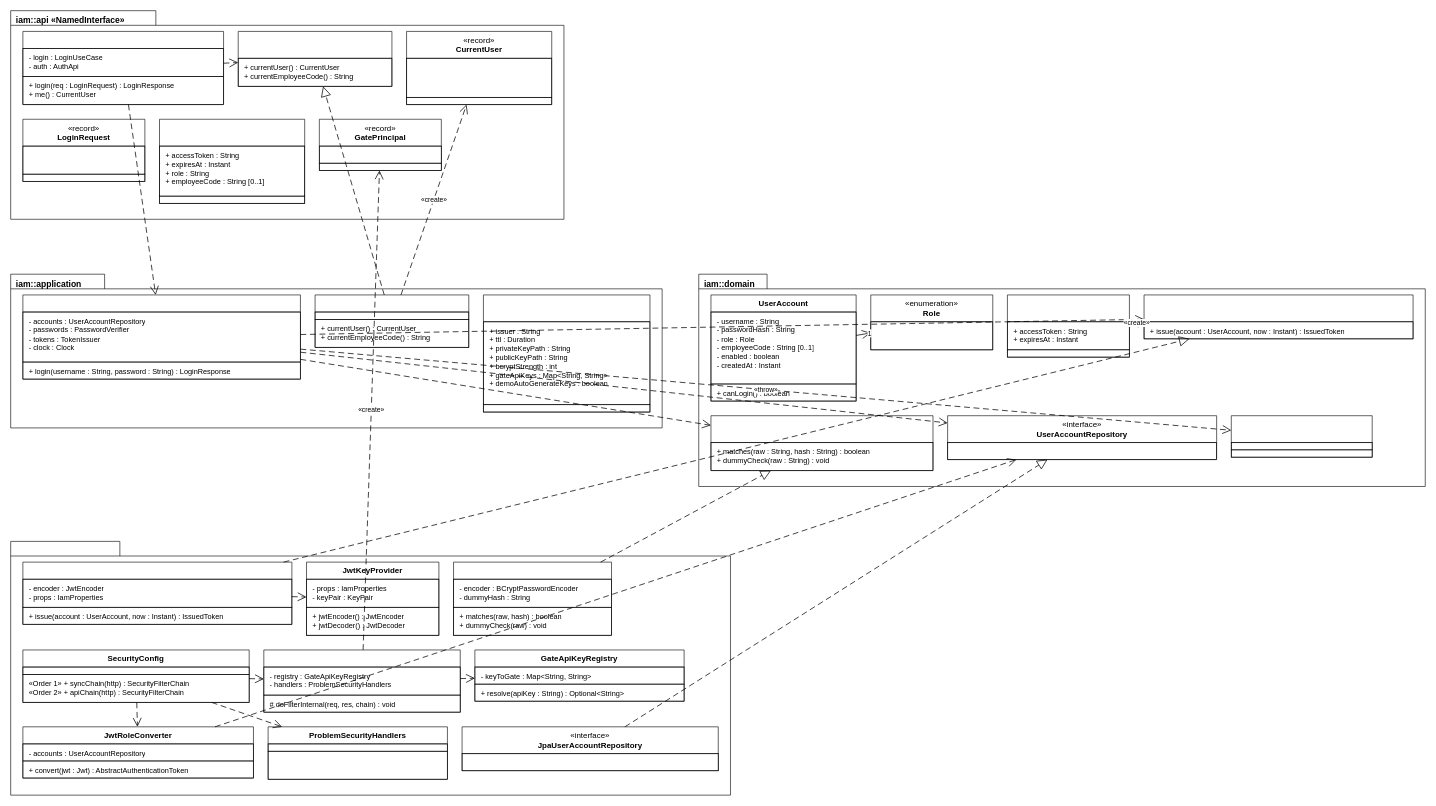
Some shapes in this 1436 by 806 pixel diagram are drawn without their labels. Each missing label, with the box of its shape:
+ commence(req, res, ex) : void «401» + handle(req, res, ex) : void «403»: (267, 751, 447, 779)
+ findByUsername(username : String) : Optional<UserAccount>: (947, 442, 1217, 460)
+ gateId : String: (319, 145, 441, 163)
+ username : String + password : String: (22, 145, 145, 174)
+ username : String + role : String + employeeCode : String [0..1]: (406, 58, 552, 97)
AuthController: (22, 31, 224, 105)
BCryptPasswordVerifier: (453, 562, 612, 635)
CurrentUserService: (314, 294, 469, 347)
EMPLOYEE ADMIN: (870, 321, 993, 350)
GateApiKeyFilter: (263, 649, 460, 712)
iam::infrastructure: (10, 541, 730, 795)
JwtTokenIssuer: (22, 562, 292, 624)
LoginUseCase: (22, 294, 300, 379)
«exception» AuthenticationFailedException: (1231, 415, 1372, 457)
«interface» AuthApi: (238, 31, 392, 86)
«interface» PasswordVerifier: (710, 415, 933, 471)
«interface» TokenIssuer: (1143, 294, 1413, 339)
«record» IamProperties: (483, 294, 650, 412)
«record» IssuedToken: (1007, 294, 1129, 357)
«record» LoginResponse: (159, 119, 305, 203)
«Spring Data» extends JpaRepository<UserAccount, String>: (461, 753, 718, 771)
